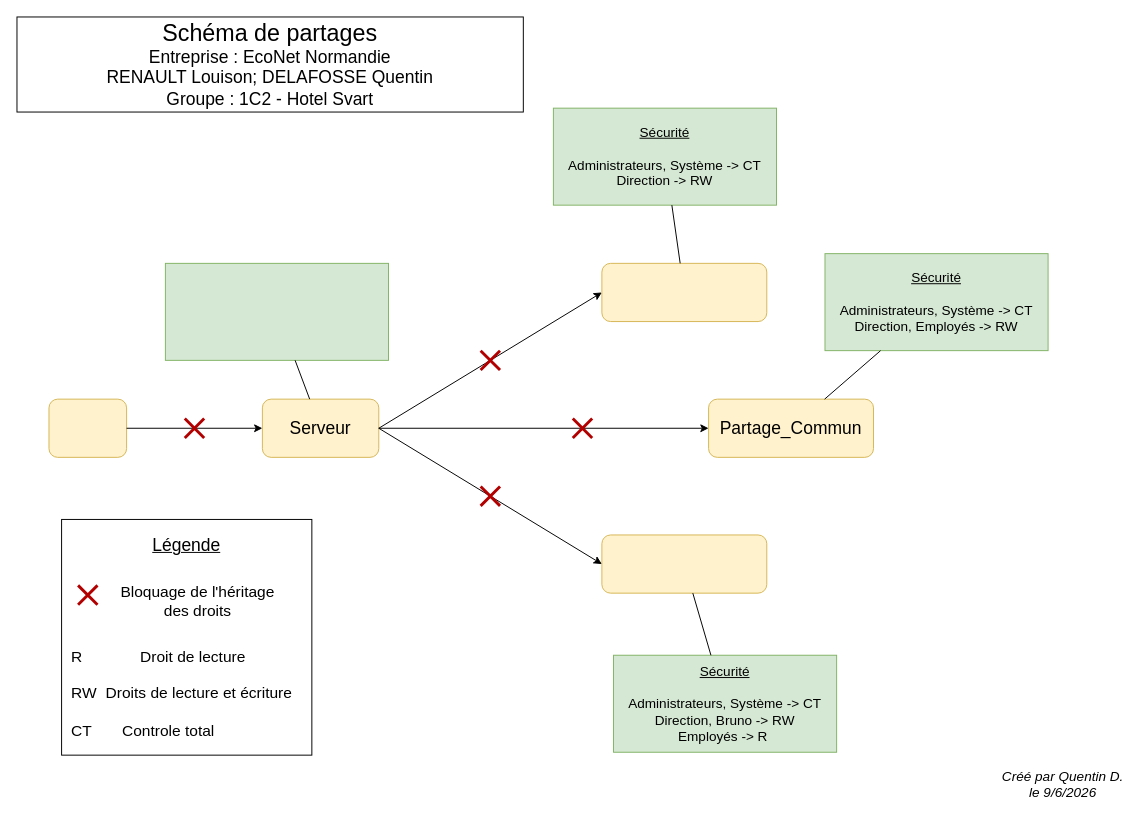
Some shapes in this 1145 by 818 pixel diagram are drawn without their labels. Each missing label, with the box of its shape:
C:\: (48, 398, 127, 457)
Partage_Direction: (601, 262, 767, 322)
Partage_Employés: (601, 534, 767, 593)
Sécurité Administrateurs, Système -> CT Direction, Employés, Clients -> R: (164, 262, 388, 360)
